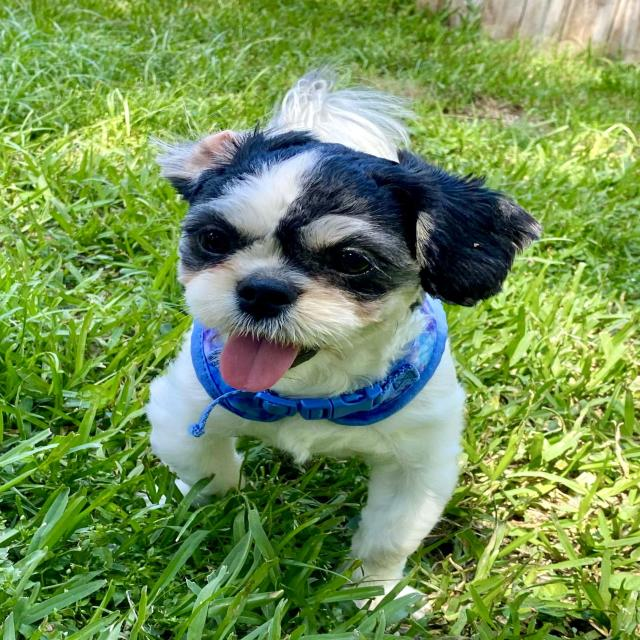shih_tzu_dog: (126, 118, 545, 407)
